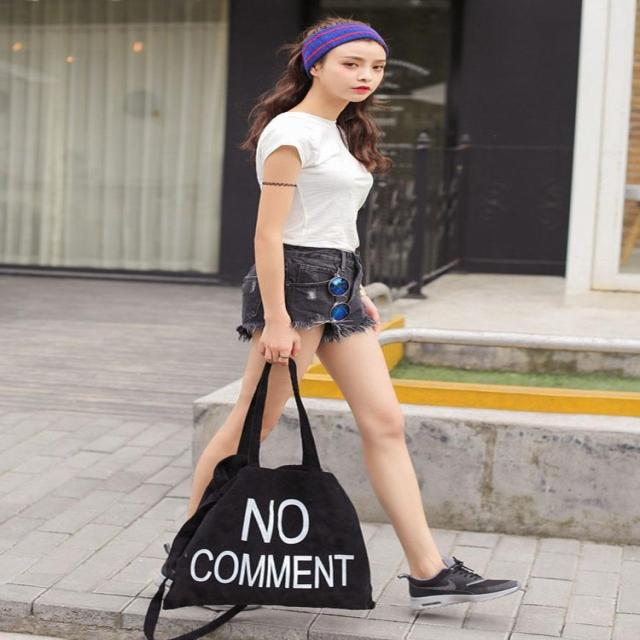short sleeve top: (264, 113, 373, 248)
shorts: (243, 242, 376, 338)
